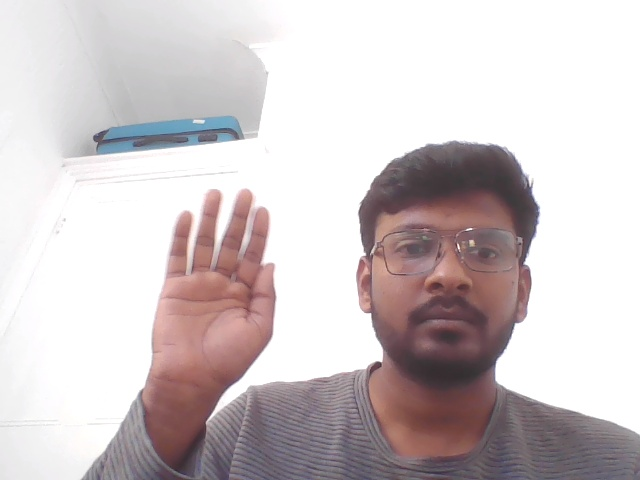Hello: (99, 156, 299, 467)
